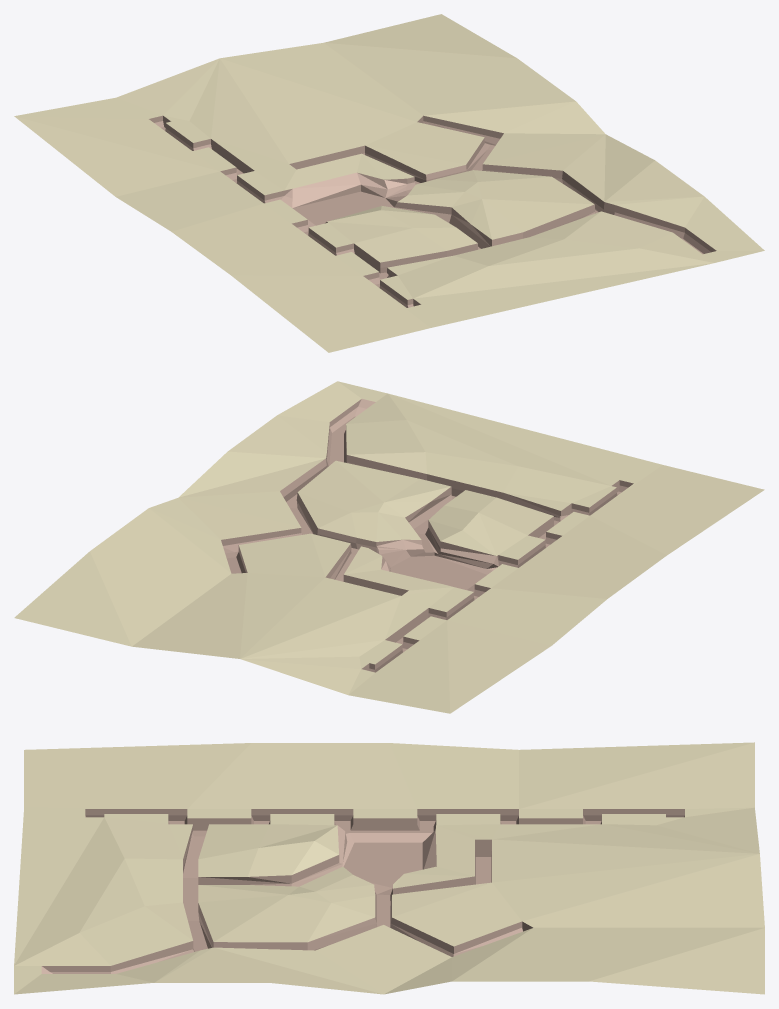
The model's file is TrenchesGround.fbx.
3 views of the same model, one above another, from view 1: azimuth 30°, elevation 25°; view 2: azimuth 150°, elevation 25°; view 3: azimuth 270°, elevation 25° (orthographic). The views are drawn at different scales.
Parts seen in each view (by area): view 1: TrenchesGround; view 2: TrenchesGround; view 3: TrenchesGround.
Boxes of the visible parts, box(x1,y1,x2,y2) form: TrenchesGround: box(14, 14, 764, 352); TrenchesGround: box(14, 381, 764, 713); TrenchesGround: box(14, 742, 764, 994).
Size of the model in its own units: 106 by 6.56 by 138.
